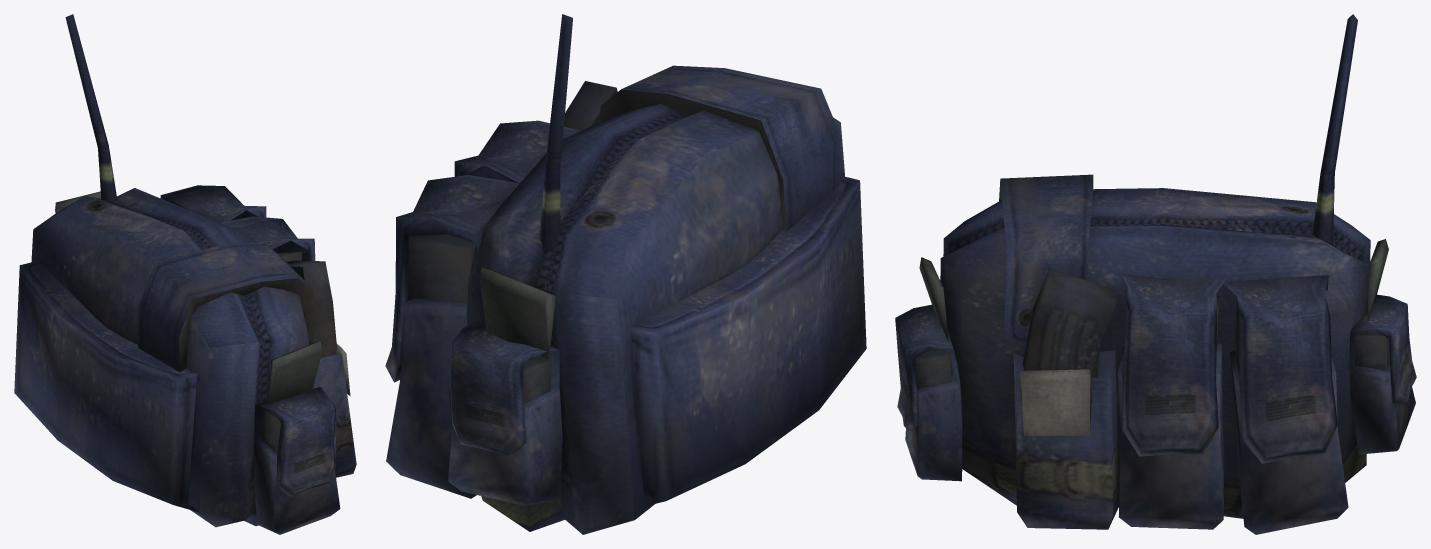
The model's file is weapon_scavenger_grenadebag_LOD0.obj.
3 views of the same model, side by side, from view 1: azimuth 30°, elevation 25°; view 2: azimuth 150°, elevation 25°; view 3: azimuth 270°, elevation 25° (orthographic). The views are drawn at different scales.
Visible parts, largest first — view 1: mtl_scavenger_pack, mtl_scavenger_pack_metal; view 2: mtl_scavenger_pack, mtl_scavenger_pack_metal; view 3: mtl_scavenger_pack, mtl_scavenger_pack_metal.
Boxes of the visible parts, box(x1,y1,x2,y2) form: mtl_scavenger_pack: box(14, 185, 356, 534); mtl_scavenger_pack_metal: box(65, 14, 336, 519); mtl_scavenger_pack: box(385, 65, 866, 534); mtl_scavenger_pack_metal: box(408, 14, 702, 531); mtl_scavenger_pack: box(895, 174, 1416, 534); mtl_scavenger_pack_metal: box(914, 14, 1389, 389).
Size of the model in its own units: 25.29 by 43.23 by 44.03.
Materials: 2 (2 with a texture image).
